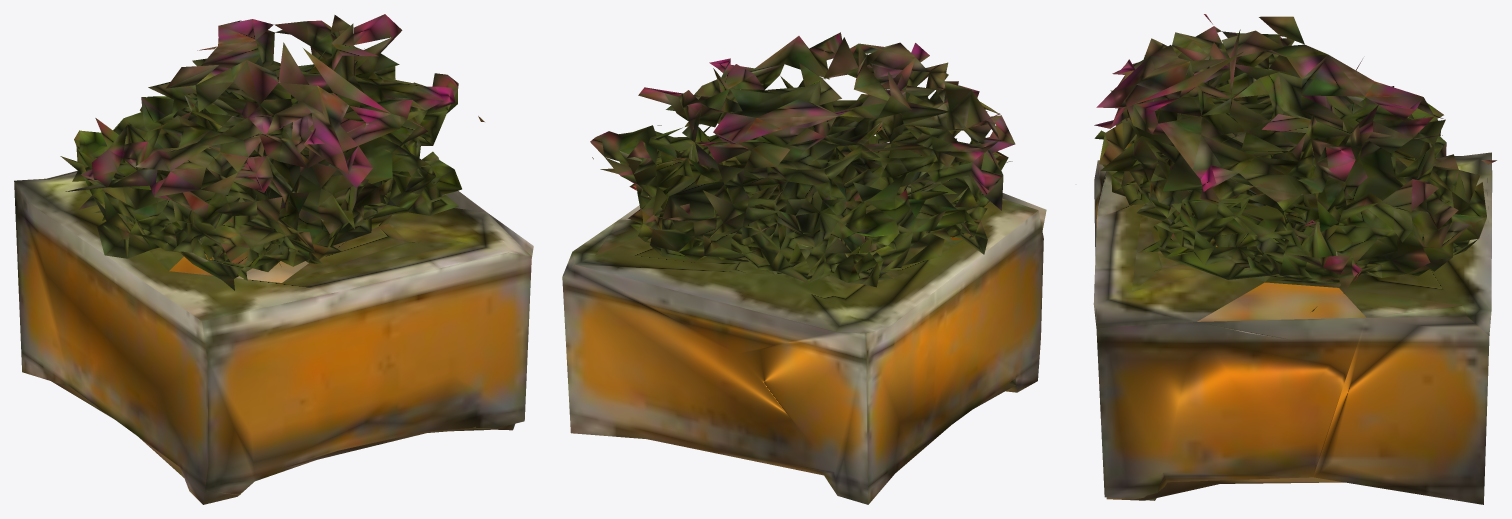
Rendered from bougainvillea-planter.glb.
3 renders of one model, left to right at view 1: azimuth 30°, elevation 25°; view 2: azimuth 150°, elevation 25°; view 3: azimuth 270°, elevation 25°, orthographic. The views are drawn at different scales.
Parts seen in each view (by area): view 1: geometry_0; view 2: geometry_0; view 3: geometry_0.
Boxes of the visible parts, left/top/right/bottom form: geometry_0: left=14, top=14, right=533, bottom=504; geometry_0: left=562, top=32, right=1046, bottom=504; geometry_0: left=1093, top=14, right=1496, bottom=504.
Bounding box in the file's own units: 1.11 × 0.9569 × 0.9261.
Materials: 1 (1 with a texture image).
